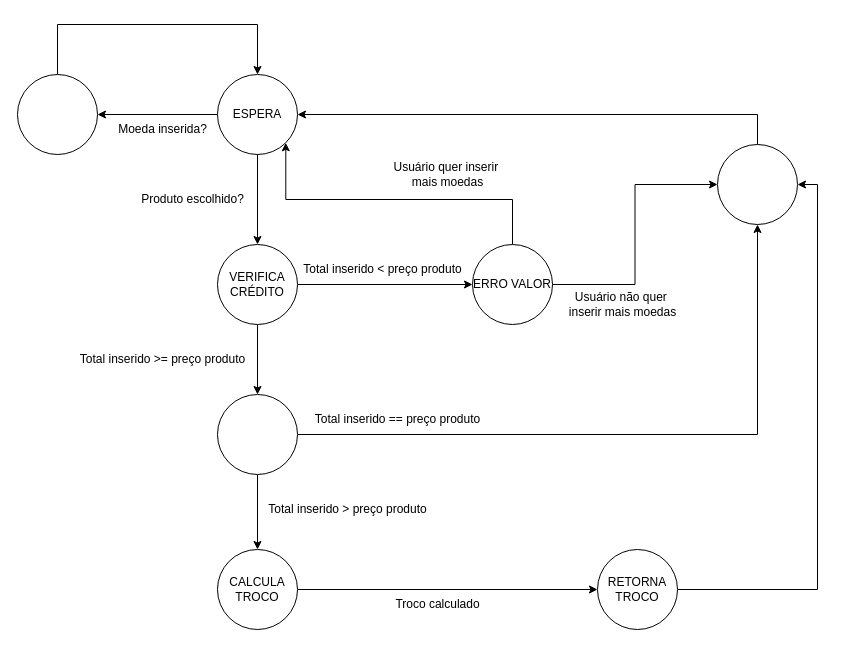
This 843x647 diagram has some shape labels left out. Here are the shapes that lost their labels. From the top down, the centre of each, then its label:
At (57,114): "REGISTRA MOEDA".
At (757,184): "Finaliza".
At (257,434): "LIBERA PRODUTO".
